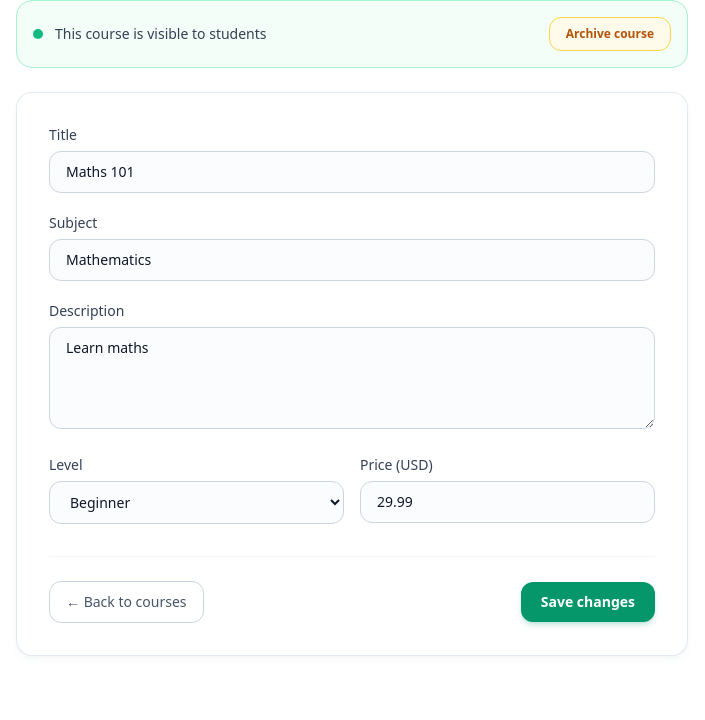
Test: EditCourseForm › shows validation error and does not PATCH when title is cleared (NFR4)
Clear the field showing "Maths 101" below "Title": (352, 172) [49, 151, 655, 193]
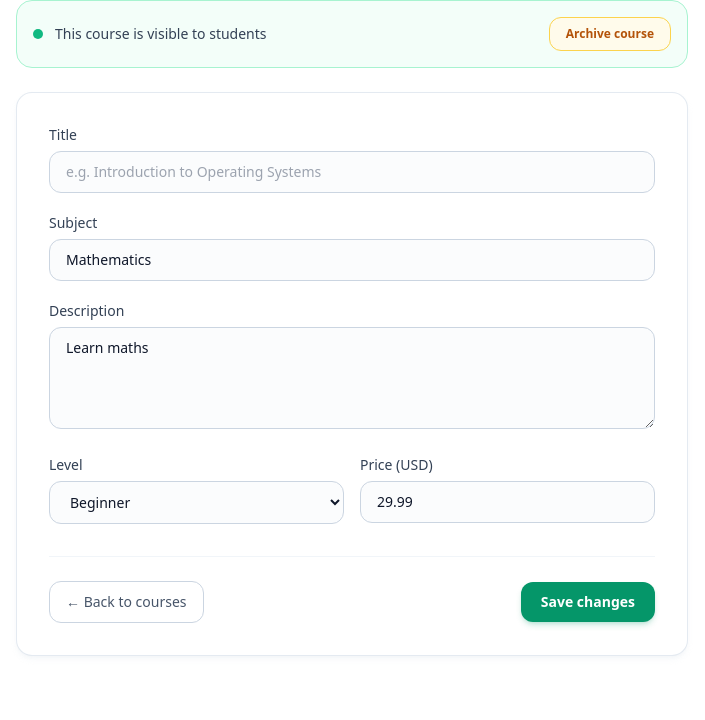
Submit the form "Save changes"
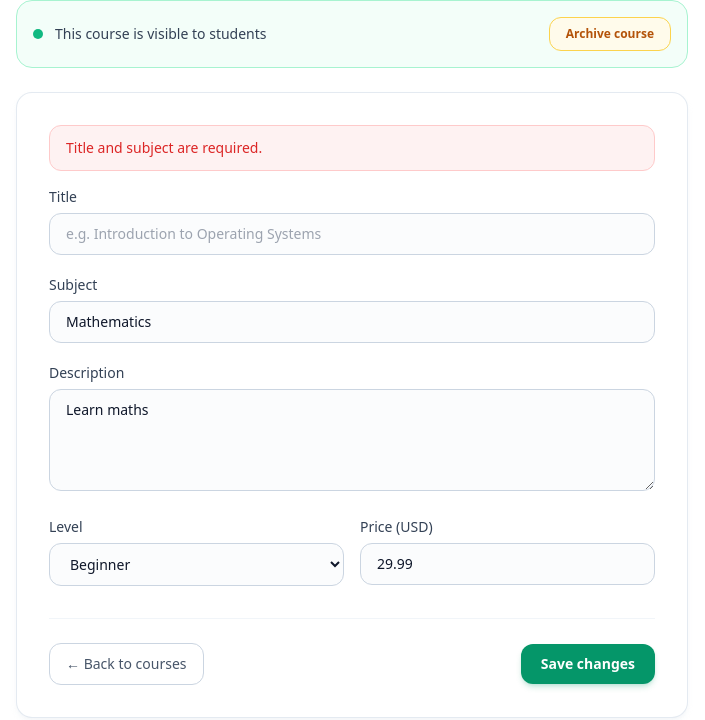
Now the text "Title and subject are required." is shown, box [49, 125, 655, 171]
